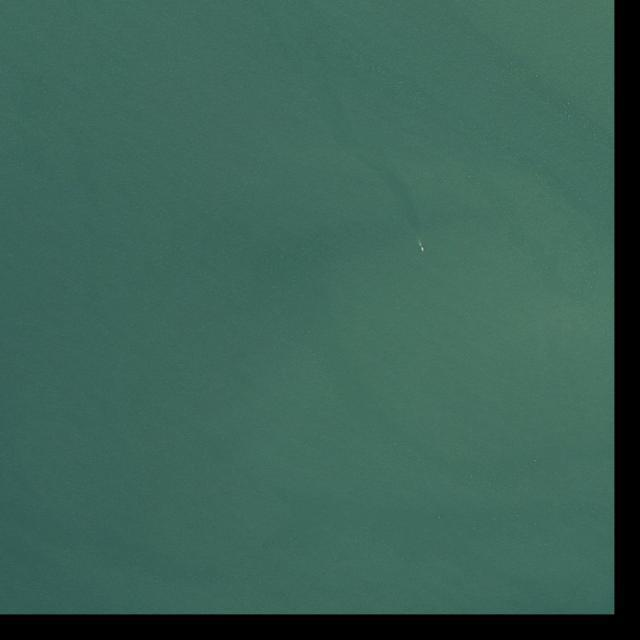ship: (421, 246, 426, 253)
